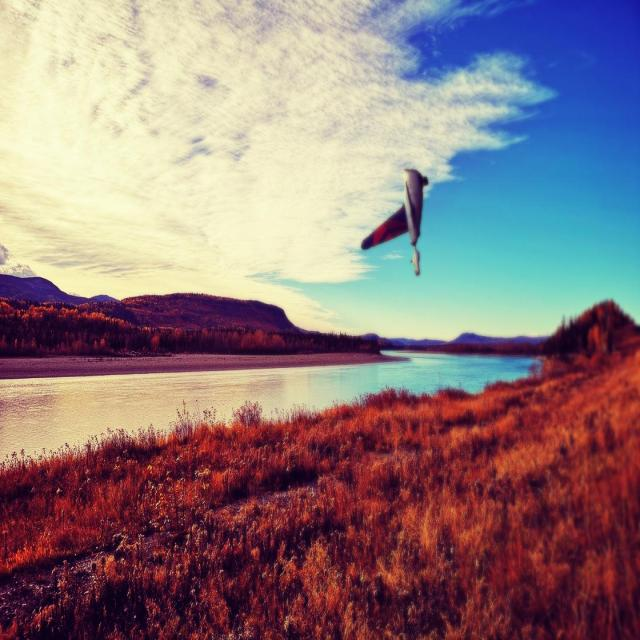airplane: (361, 168, 428, 276)
